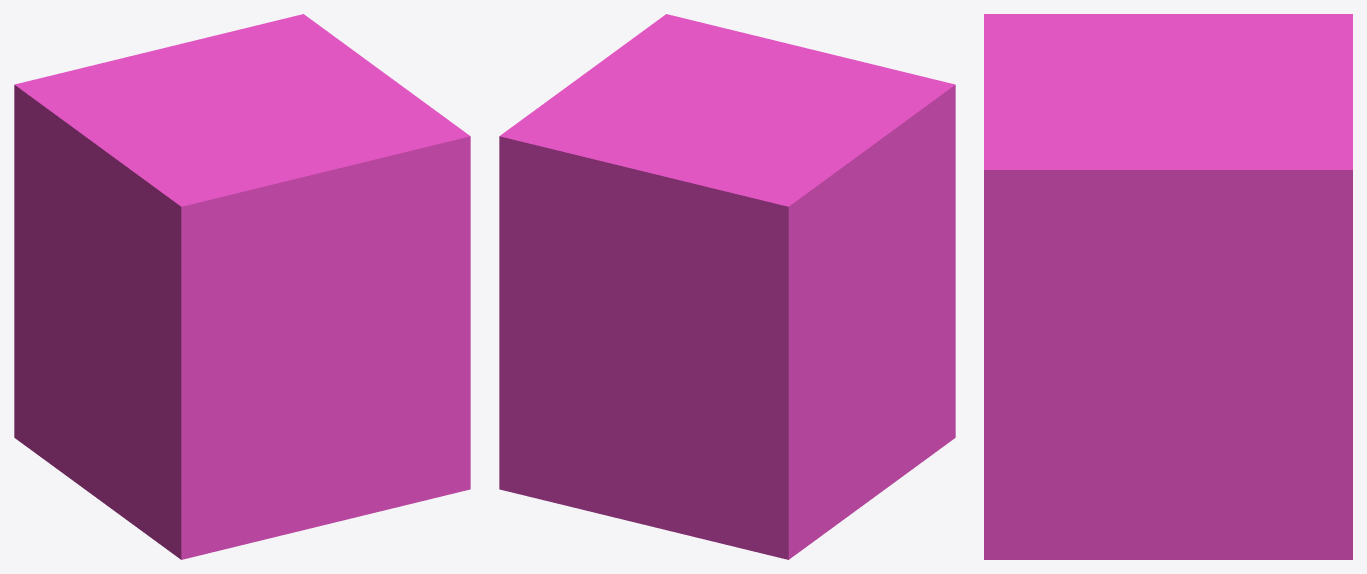
The model's file is laser.glb.
3 views of the same model, side by side, from view 1: azimuth 30°, elevation 25°; view 2: azimuth 150°, elevation 25°; view 3: azimuth 270°, elevation 25° (orthographic). The views are drawn at different scales.
Visible parts, largest first — view 1: COL_BOX_BODY; view 2: COL_BOX_BODY; view 3: COL_BOX_BODY.
Boxes of the visible parts, <box> form: COL_BOX_BODY: <box>14,14,470,559</box>; COL_BOX_BODY: <box>499,14,955,559</box>; COL_BOX_BODY: <box>984,14,1352,559</box>.
Bounding box in the file's own units: 1.2 × 1.4 × 1.2.
